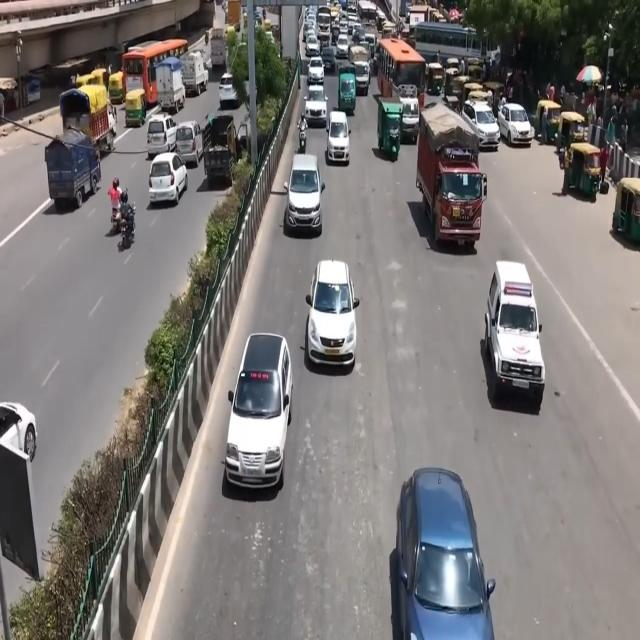auto: (564, 141, 604, 203), (613, 177, 640, 245), (557, 110, 587, 152), (535, 99, 562, 144), (125, 88, 147, 126), (443, 64, 462, 98), (108, 71, 126, 106), (426, 61, 444, 96)
bike-auto: (117, 200, 136, 249), (108, 178, 122, 225), (297, 115, 307, 153)
